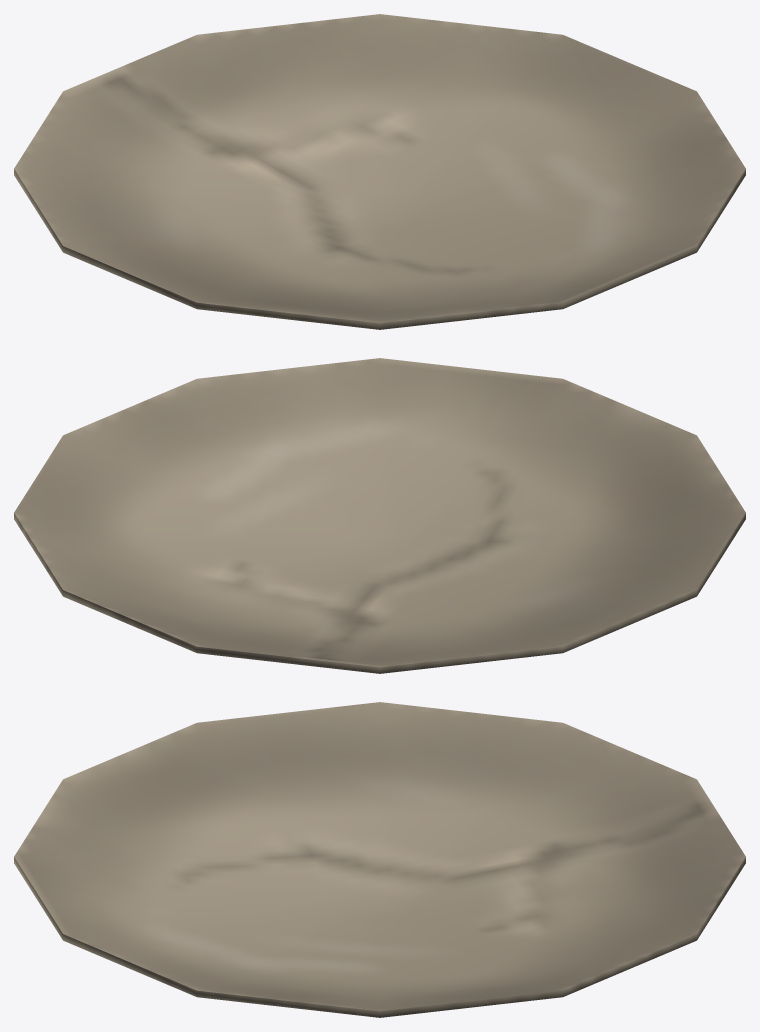
Rendered from большая тарелка.fbx.
The picture shows the model from 3 angles, top to bottom: view 1: azimuth 30°, elevation 25°; view 2: azimuth 150°, elevation 25°; view 3: azimuth 270°, elevation 25°; orthographic projection.
Visible parts, largest first — view 1: тарелка большая.001_cell.005; view 2: тарелка большая.001_cell.005; view 3: тарелка большая.001_cell.005.
Part boxes in pixels (box(x1,y1,x2,y2)): тарелка большая.001_cell.005: box(14, 14, 745, 329); тарелка большая.001_cell.005: box(14, 358, 745, 673); тарелка большая.001_cell.005: box(14, 702, 745, 1017).
Bounding box in the file's own units: 29.95 × 2.15 × 29.95.
Materials: 1 (1 with a texture image).
